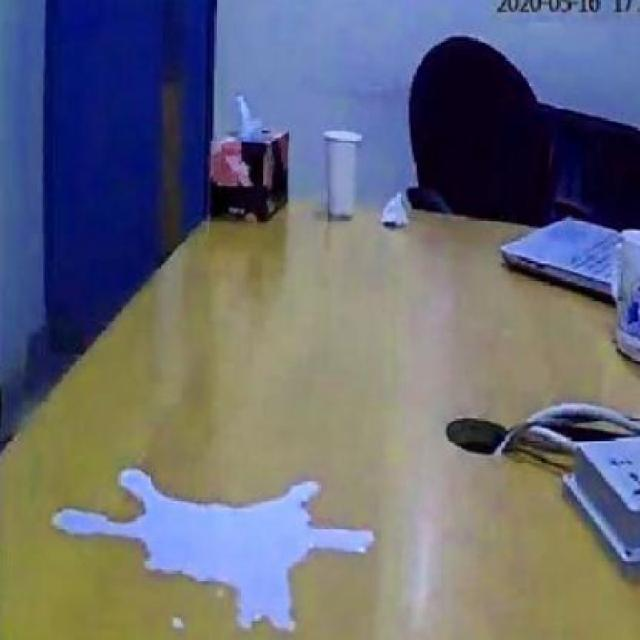spillage: (50, 472, 375, 632)
